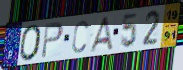2: (142, 10, 161, 47)
5: (119, 12, 140, 50)
A: (87, 15, 114, 54)
C: (71, 20, 90, 55)
O: (19, 24, 43, 63)
P: (40, 20, 65, 60)
